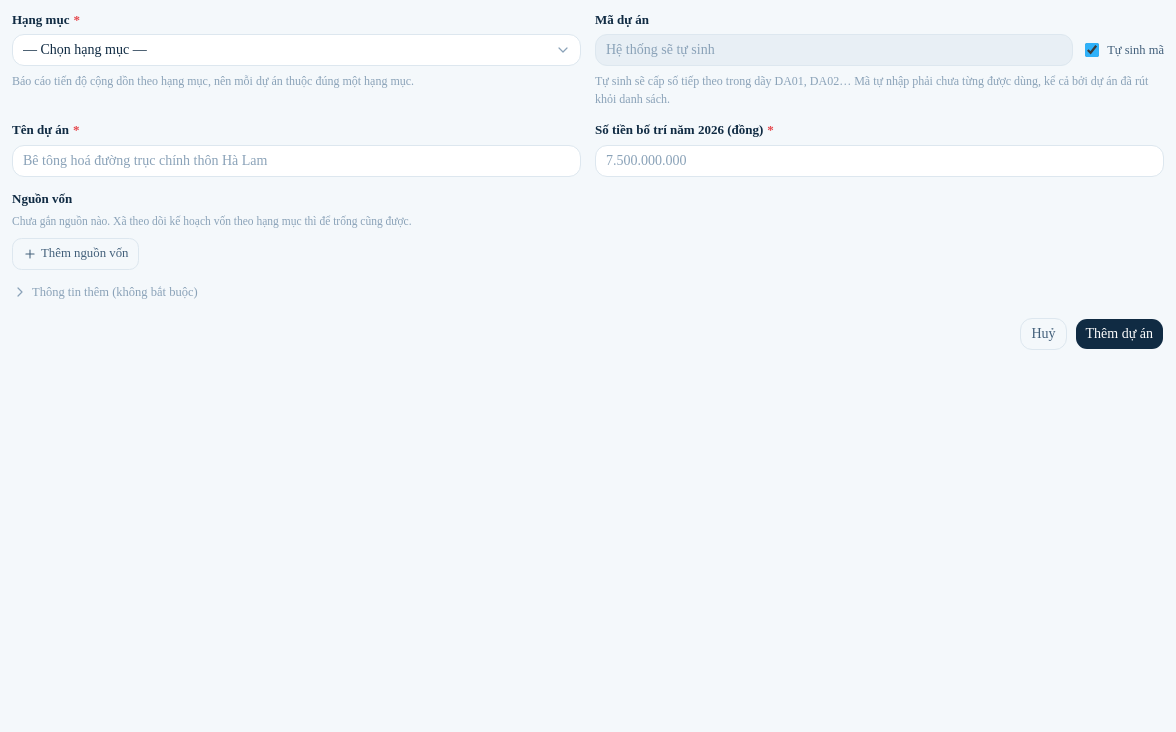
Test: §9 funding list — add form › each source is selectable once: a used source leaves the other rows' selects; + disabled when all used
Step 1. Click the button "Thêm nguồn vốn" → click(76, 254), box [12, 238, 139, 270]
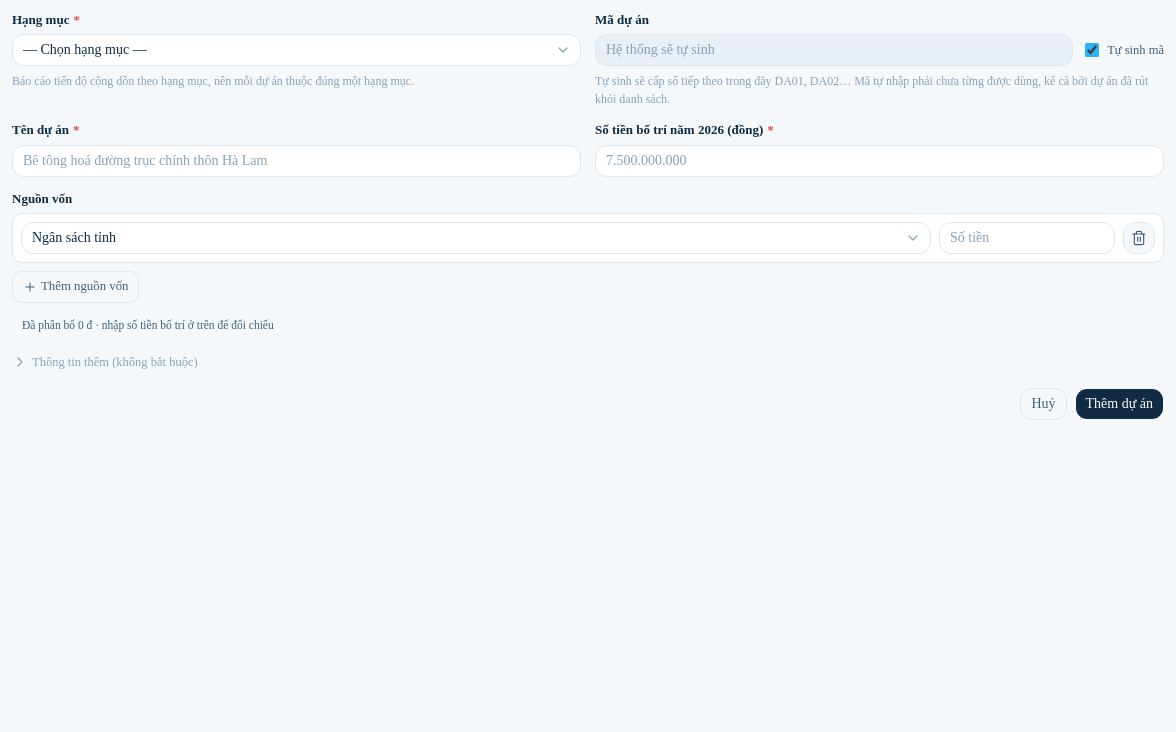
Step 2. Select "Ngân sách tỉnh" in the 2nd dropdown → (476, 238), box [21, 222, 931, 254]
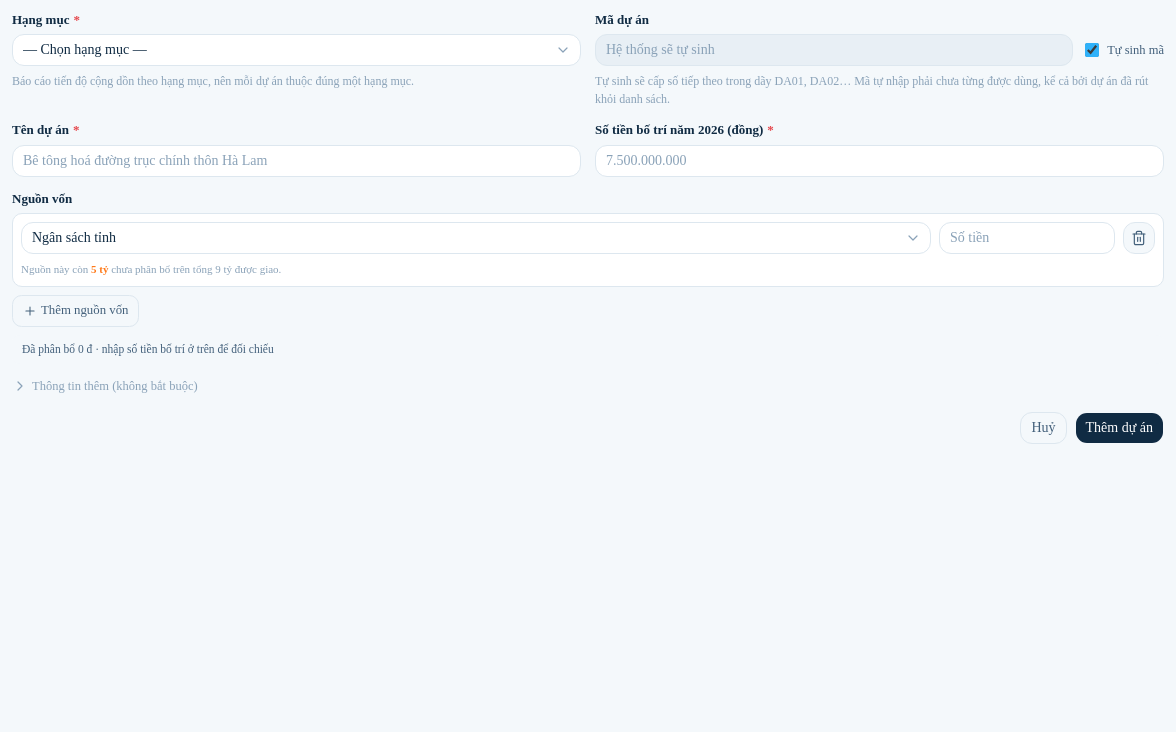
Step 3. Click the button "Thêm nguồn vốn" → click(76, 311), box [12, 295, 139, 327]
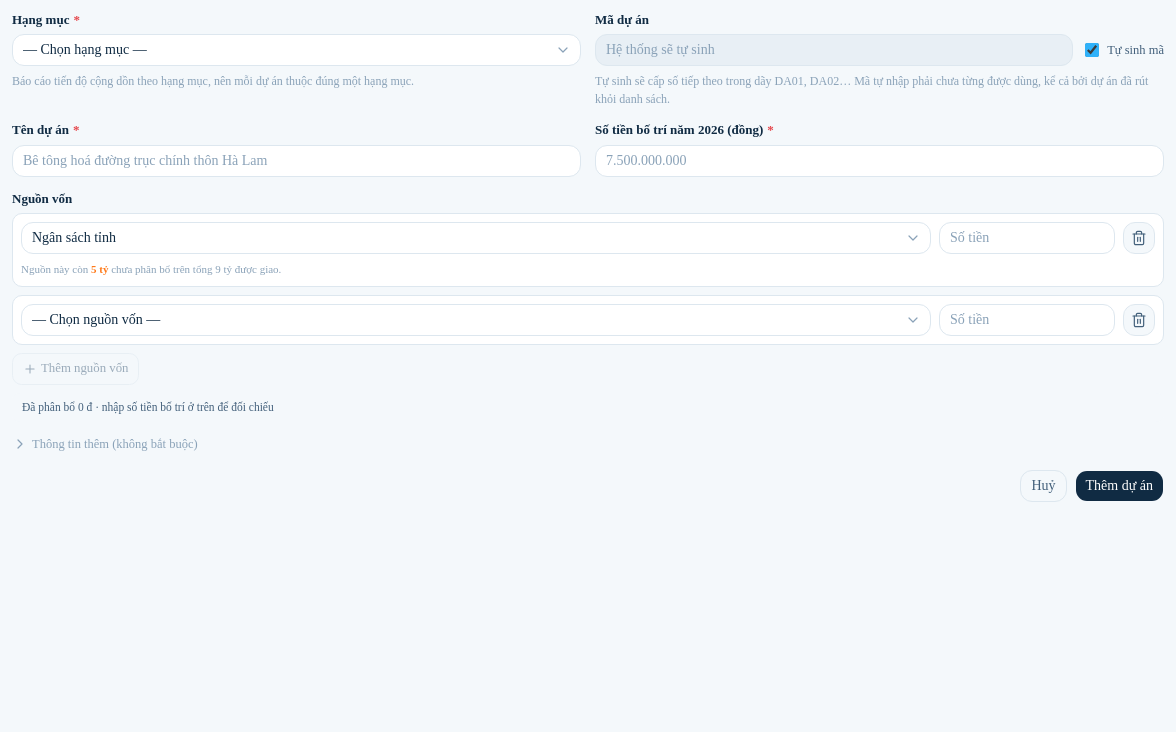
expect the button "Thêm nguồn vốn" is disabled: met, box [12, 353, 139, 385]
